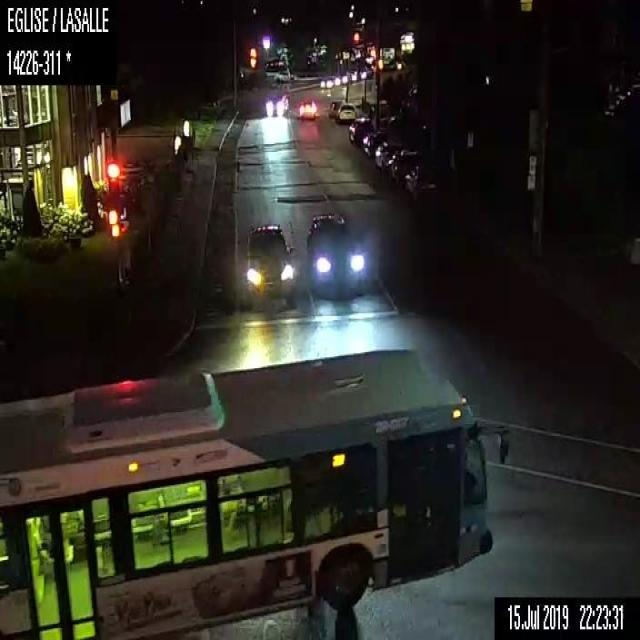bus: (0, 346, 508, 638)
vehicle: (306, 211, 366, 289), (244, 221, 292, 296), (404, 163, 447, 203), (386, 148, 421, 185), (374, 139, 407, 174), (347, 116, 375, 149), (362, 128, 388, 156), (263, 91, 290, 116), (336, 102, 356, 124), (298, 99, 318, 117), (328, 99, 342, 118), (318, 75, 334, 88)
